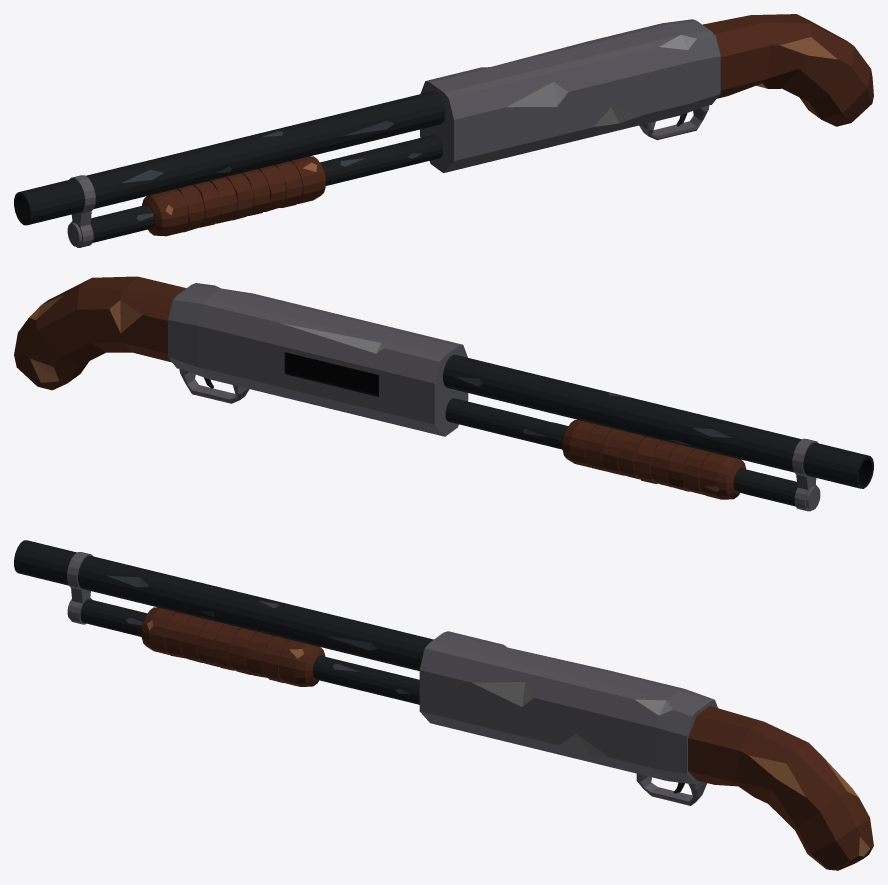
File: Shotgun_01.gltf
3 views of the same model, one above another, from view 1: azimuth 30°, elevation 25°; view 2: azimuth 150°, elevation 25°; view 3: azimuth 330°, elevation 25° (orthographic).
Visible parts, largest first — view 1: Shotgun_01, Gate_09; view 2: Shotgun_01, Gate_09; view 3: Shotgun_01, Gate_09.
Boxes of the visible parts, x1,y1,x2,y2 form: Shotgun_01: (14,14,873,247); Gate_09: (142,156,325,236); Shotgun_01: (14,276,873,511); Gate_09: (562,419,745,499); Shotgun_01: (14,540,873,870); Gate_09: (141,607,325,686).
Bounding box in the file's own units: 0.7728 × 0.1152 × 0.0537.
